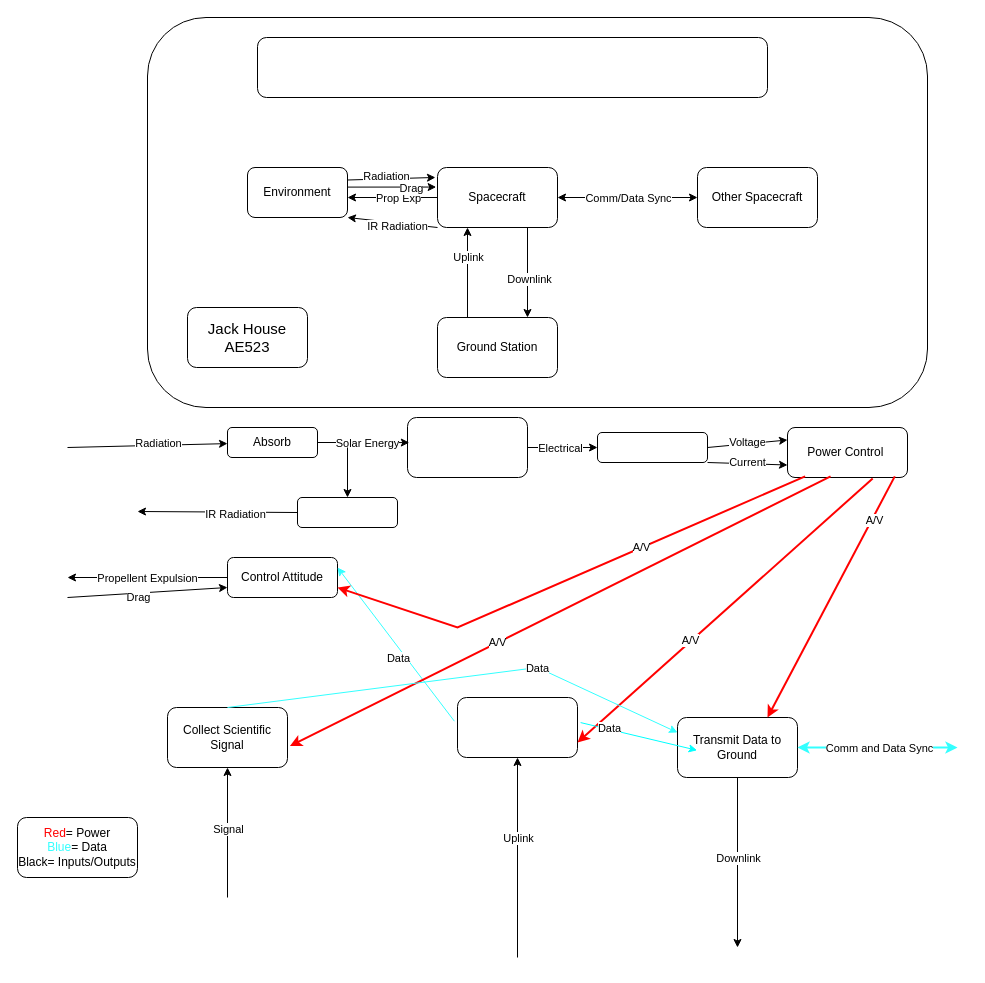
Image size: 985x983. Some labels were removed from this diagram. The box of each missing label's shape, as (x1, y1, x2, y2) in pixels:
Convert Solar to Electrical Power: (406, 416, 528, 478)
Overall Basic Logical Framework: (256, 36, 768, 98)
Power Storage: (596, 432, 708, 462)
Provide Telemetry: (456, 696, 578, 758)
Solar to Thermal: (296, 496, 398, 528)
